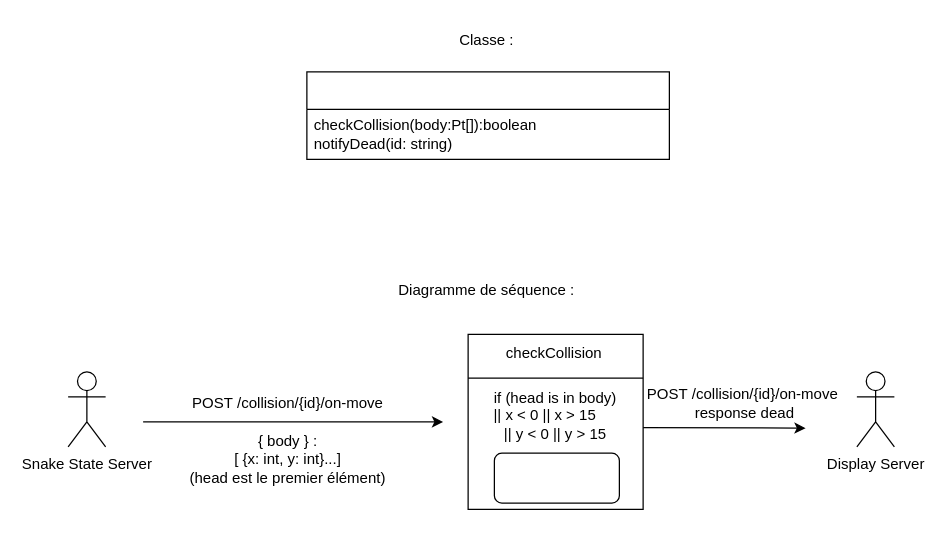
The diagram is 945 pixels wide and 536 high, and some of its shapes have lost their labels. The box of each missing label's shape, as (x1, y1, x2, y2) in pixels:
CollisionService: (306, 71, 669, 159)
return dead =true (bool): (493, 452, 619, 503)
